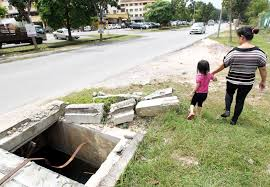Manhole-Open: (1, 102, 139, 186)
human: (213, 25, 267, 129), (187, 56, 214, 120)
